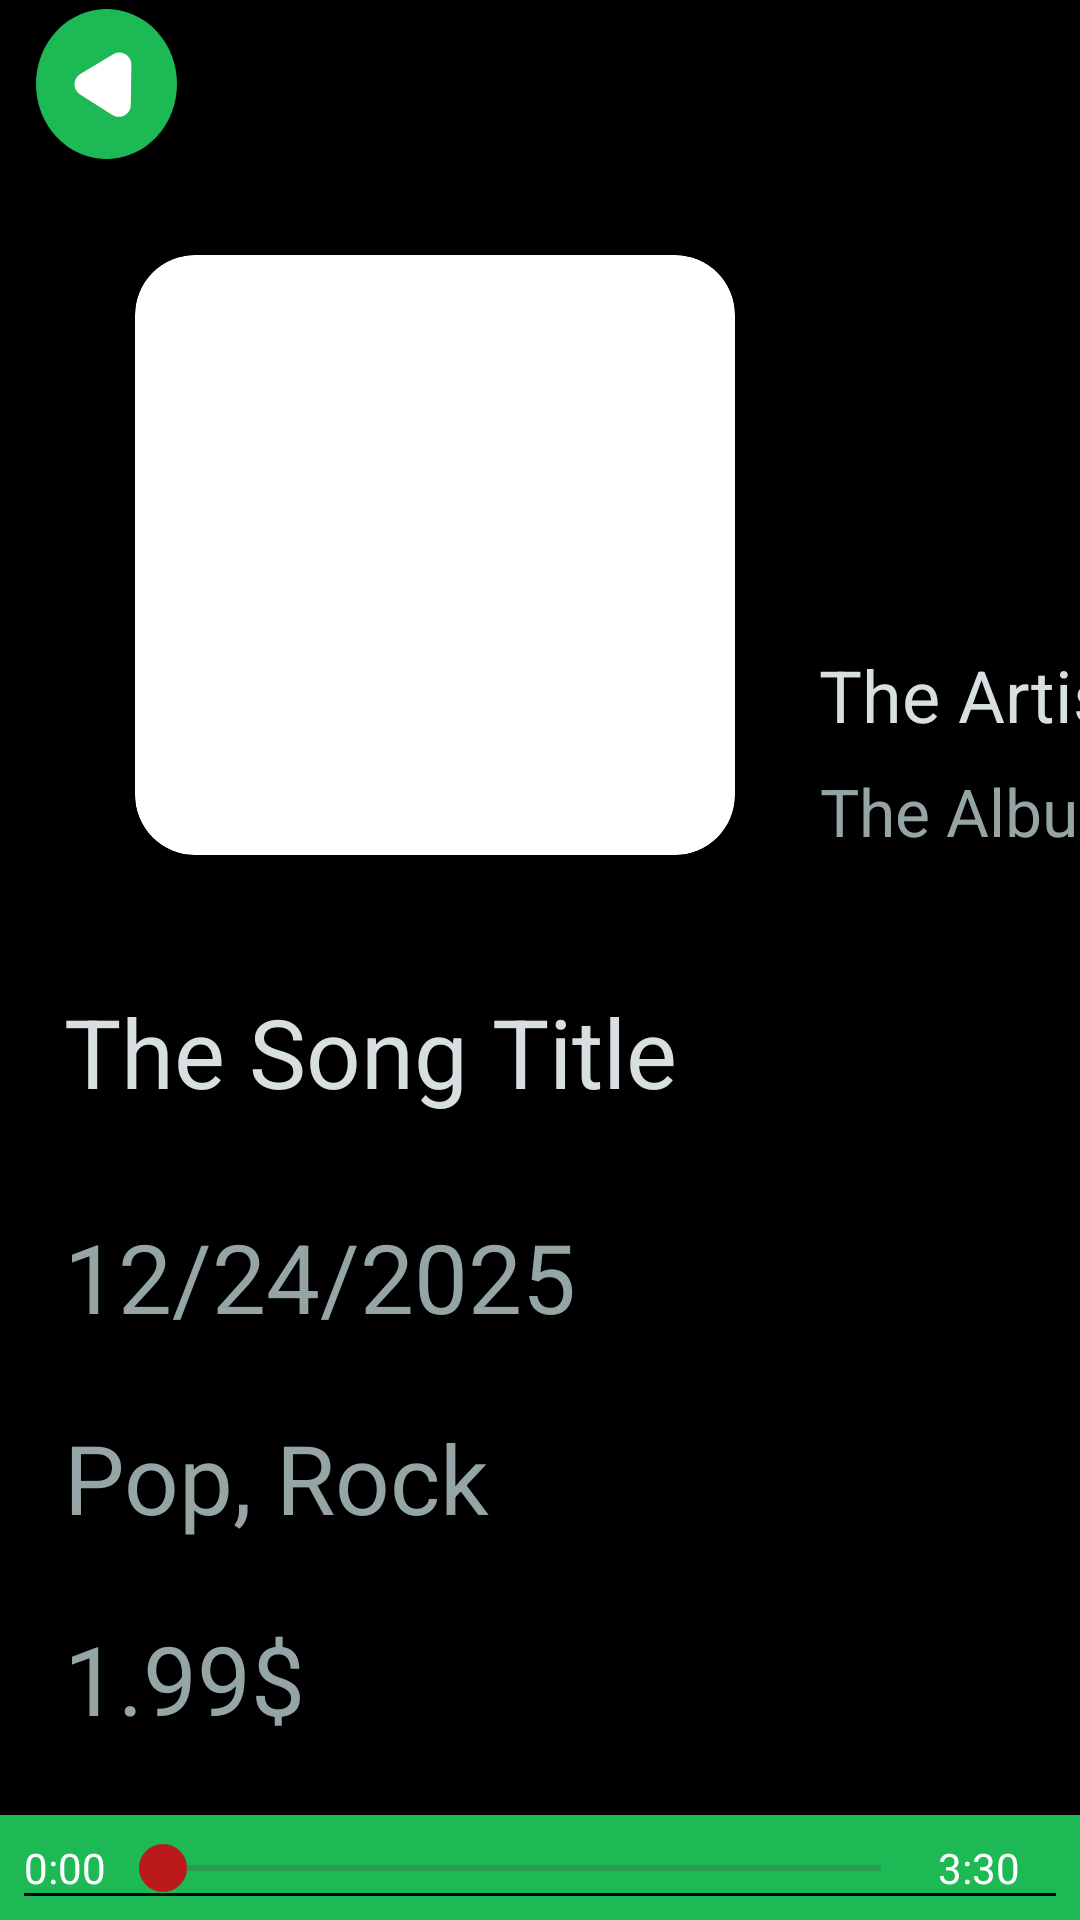

Named icons in this screenshot (1080 × 1920) and their centers, [x,y]:
Back: [106,84]
